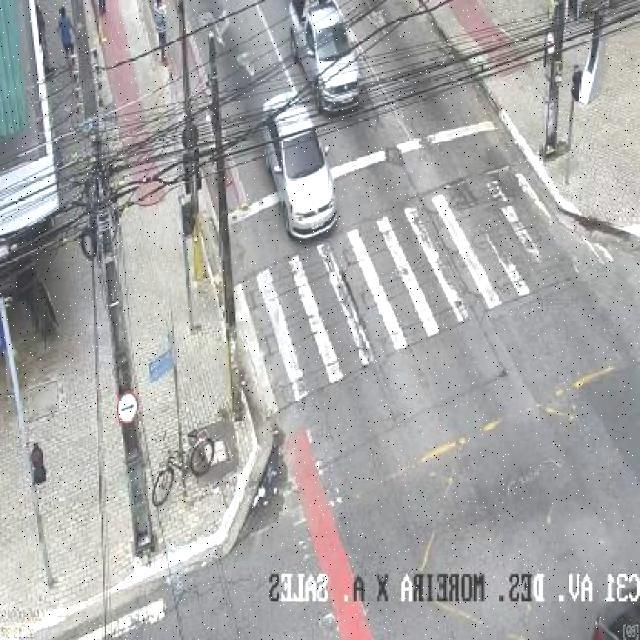Car: (267, 88, 344, 262), (282, 8, 376, 116)
Cycle: (135, 434, 225, 512)
